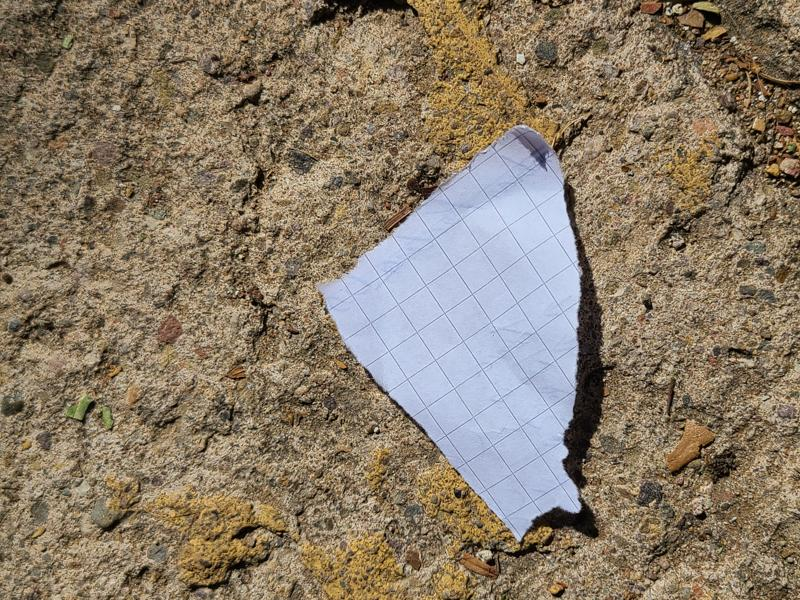papel: (320, 126, 582, 542)
